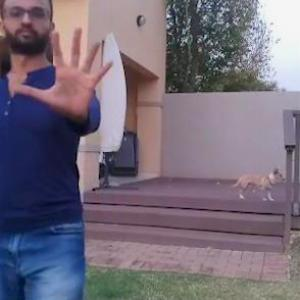follow_hand: (13, 21, 118, 126)
